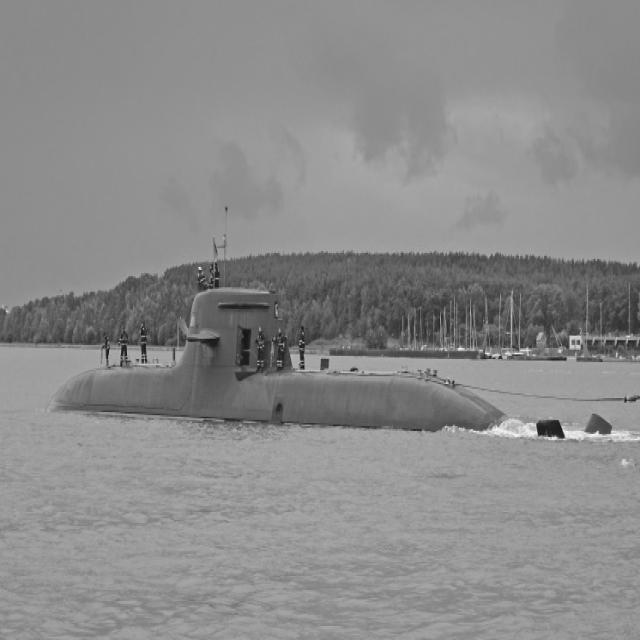submarine: (54, 290, 615, 435)
